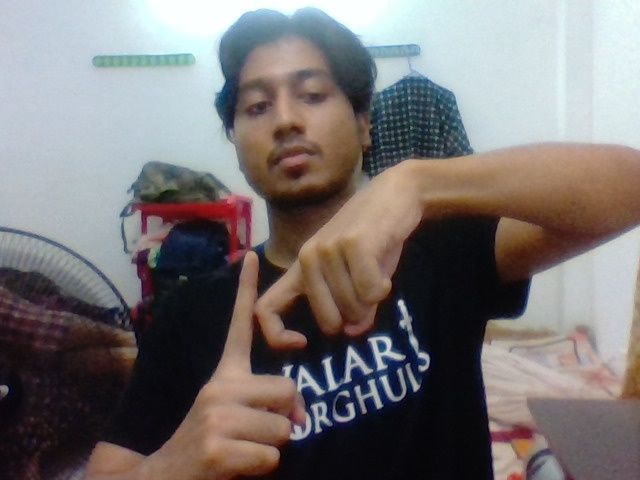K: (196, 243, 343, 456)
